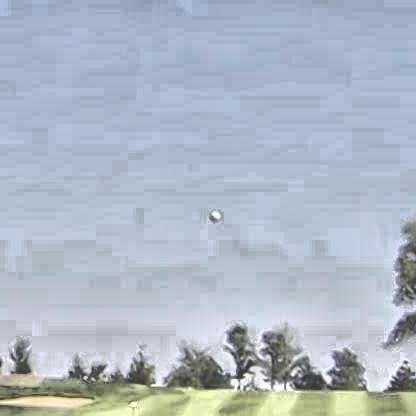golfball: (207, 207, 218, 219)
